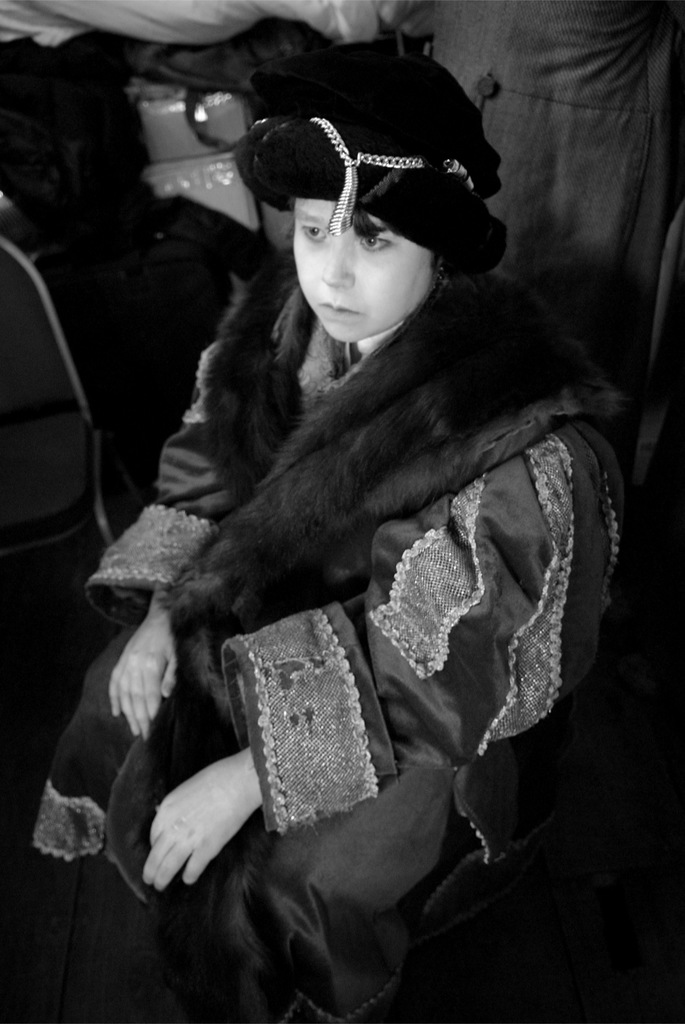Human_hand: (140, 737, 276, 900), (104, 606, 184, 746)
